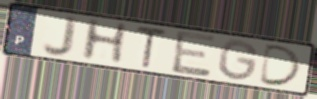D: (257, 43, 305, 89)
E: (170, 29, 218, 79)
G: (217, 38, 261, 83)
H: (78, 17, 131, 65)
J: (40, 13, 81, 60)
T: (134, 24, 169, 70)
